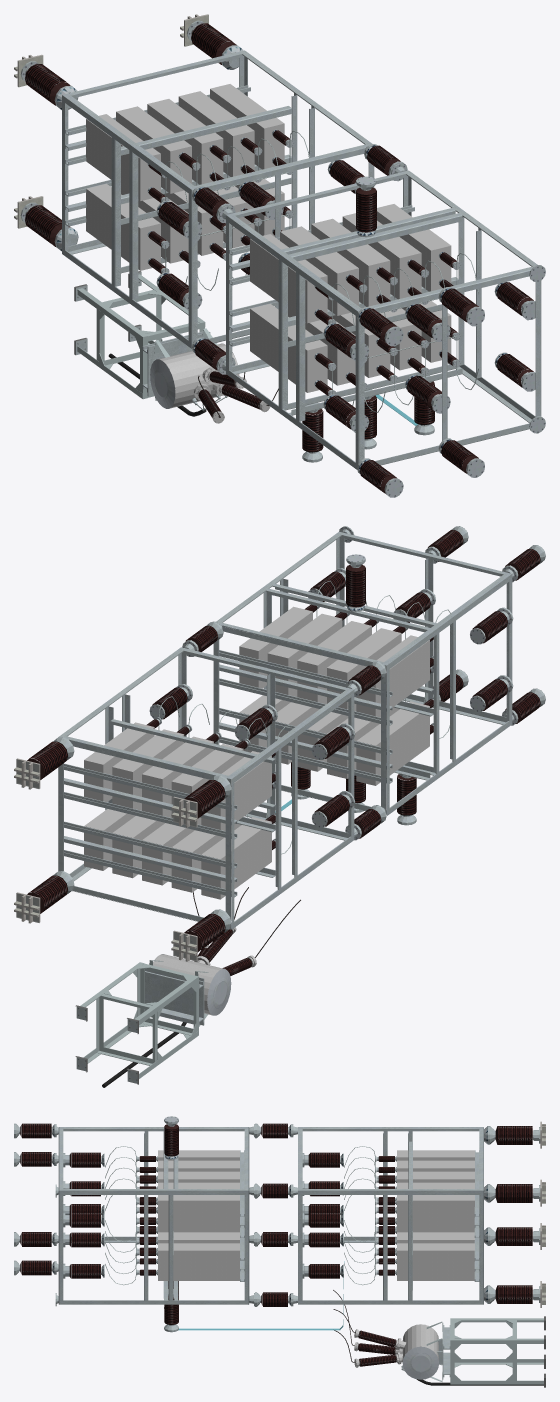
3 views of the same model, one above another, from view 1: azimuth 30°, elevation 25°; view 2: azimuth 150°, elevation 25°; view 3: azimuth 270°, elevation 25° (orthographic). The views are drawn at different scales.
Parts seen in each view (by area): view 1: Node; view 2: Node; view 3: Node.
Boxes of the visible parts, bbox=[...] form: Node: bbox=[14, 14, 545, 497]; Node: bbox=[14, 526, 545, 1087]; Node: bbox=[14, 1116, 545, 1387].
Bounding box in the file's own units: 1.78 × 3.29 × 6.
16 materials, 16 textured.
